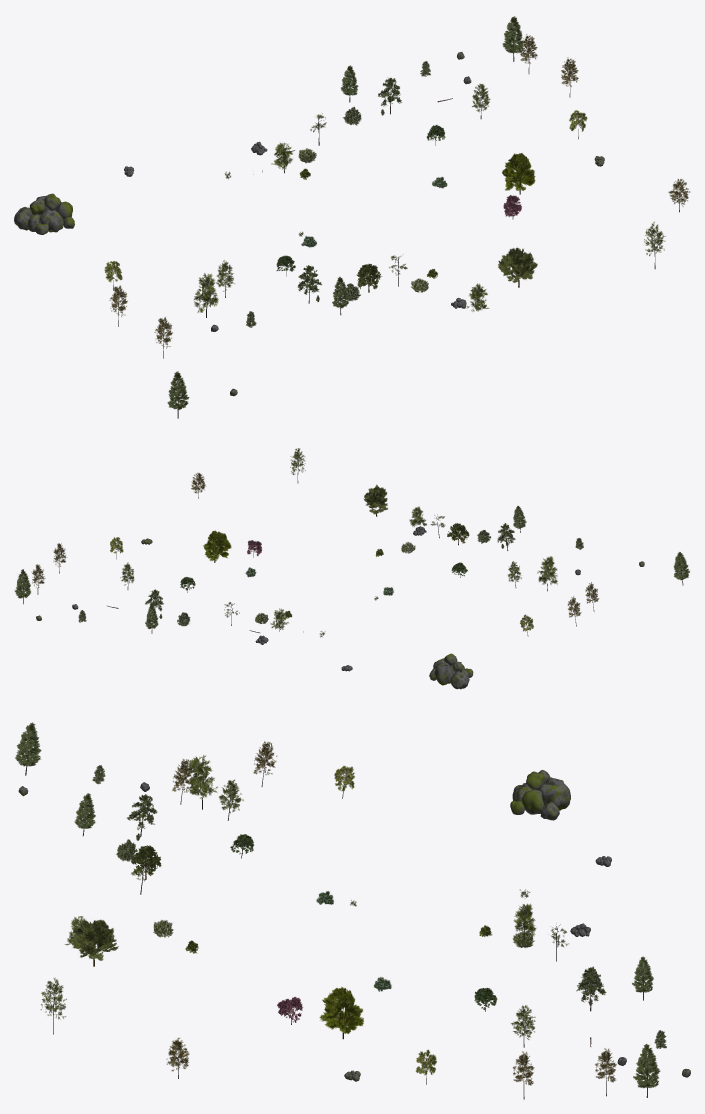
File: trees.glb
3 views of the same model, one above another, from view 1: azimuth 30°, elevation 25°; view 2: azimuth 150°, elevation 25°; view 3: azimuth 270°, elevation 25° (orthographic). The views are drawn at different scales.
Parts seen in each view (by area): view 1: Object_24.001, Object_70, Object_67, Object_74; view 2: Object_24.001, Object_67, Object_70, Object_74; view 3: Object_24.001, Object_67, Object_70, Object_74, Object_46.001, Object_46.003, Object_4, Object_59, Object_53, Object_53.001.
Boxes of the visible parts, <box> form: Object_24.001: <box>14,193,74,234</box>; Object_70: <box>498,247,537,287</box>; Object_67: <box>502,153,535,194</box>; Object_74: <box>194,273,218,317</box>; Object_24.001: <box>429,653,473,689</box>; Object_67: <box>203,530,231,562</box>; Object_70: <box>363,484,387,516</box>; Object_74: <box>537,556,557,591</box>; Object_24.001: <box>510,770,570,820</box>; Object_67: <box>319,987,363,1039</box>; Object_70: <box>71,919,118,966</box>; Object_74: <box>187,755,217,809</box>; Object_46.001: <box>633,1044,660,1097</box>; Object_46.003: <box>15,722,41,775</box>; Object_4: <box>131,845,161,879</box>; Object_59: <box>41,977,66,1034</box>; Object_53: <box>576,966,606,1011</box>; Object_53.001: <box>126,794,157,836</box>.
Size of the model in its own units: 304 by 36.24 by 241.
Materials: 27 (27 with a texture image).
